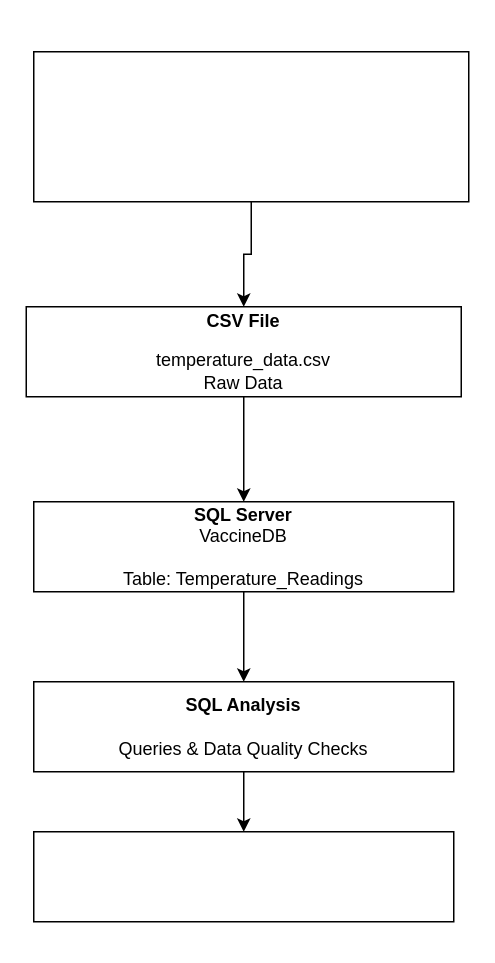
Some shapes in this 495 by 963 pixel diagram are drawn without their labels. The shapes that lost their labels are listed below. From the top down, each one's box as (x1, y1, x2, y2) in pixels, then its label:
(32, 50, 469, 202): Python Script (generate_data.py) Generate Sensor Data
(32, 830, 454, 922): Dashboard (Later) Power BI /
